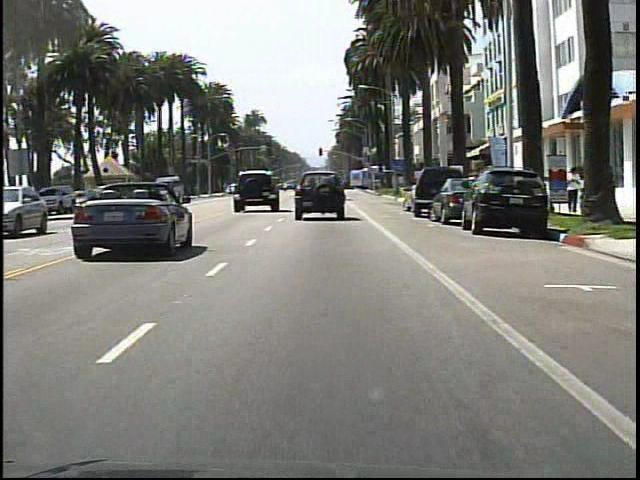person: (563, 166, 581, 215)
